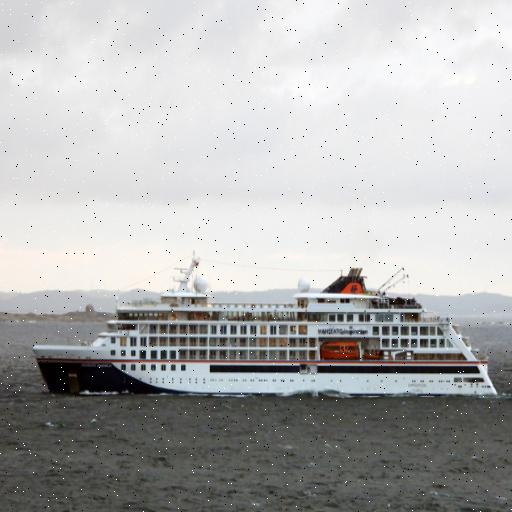cruises: (31, 243, 501, 411)
